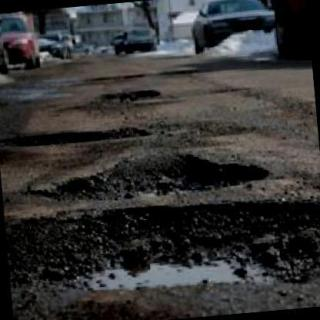pothole: (12, 204, 320, 289), (20, 155, 271, 202), (0, 128, 155, 147), (101, 90, 161, 105)
